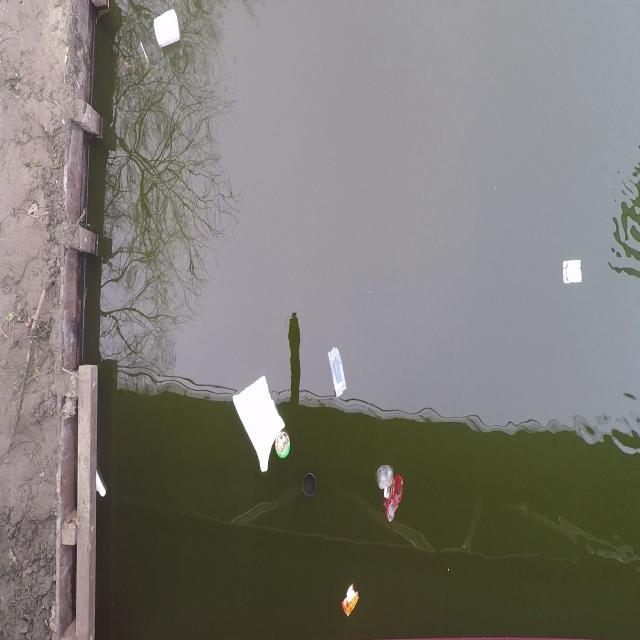Autre plastique: (322, 341, 350, 400), (559, 256, 585, 291), (302, 471, 322, 508), (276, 433, 296, 463)
Sac plastique: (377, 468, 412, 531), (367, 456, 401, 512)
